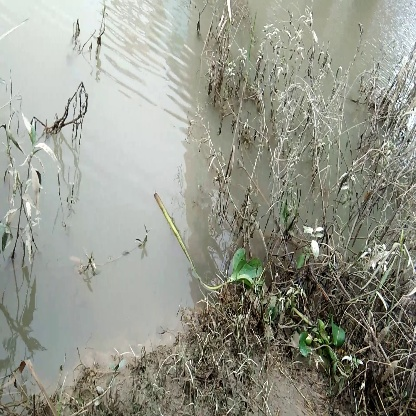branch: (148, 187, 219, 290)
